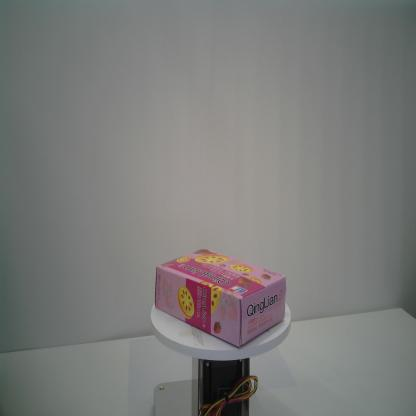Dessert: (153, 247, 288, 349)
